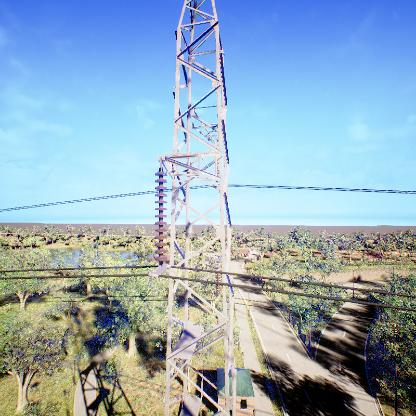insulator: (152, 168, 170, 267)
